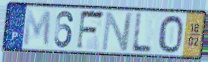6: (53, 10, 74, 50)
F: (75, 9, 106, 52)
L: (130, 12, 153, 54)
M: (22, 8, 53, 49)
N: (101, 11, 135, 53)
O: (158, 14, 185, 55)
